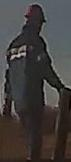gloves: (2, 96, 13, 118)
helmet: (24, 4, 47, 24)
vest: (8, 35, 48, 110)
